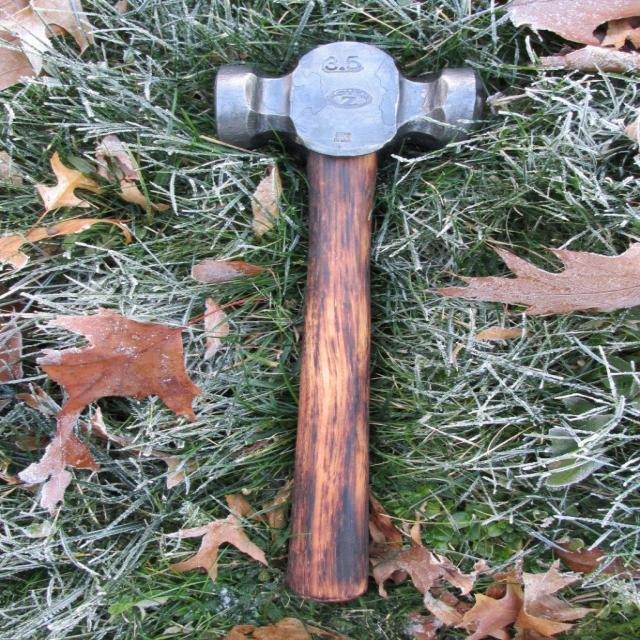hammer: (196, 35, 485, 612)
